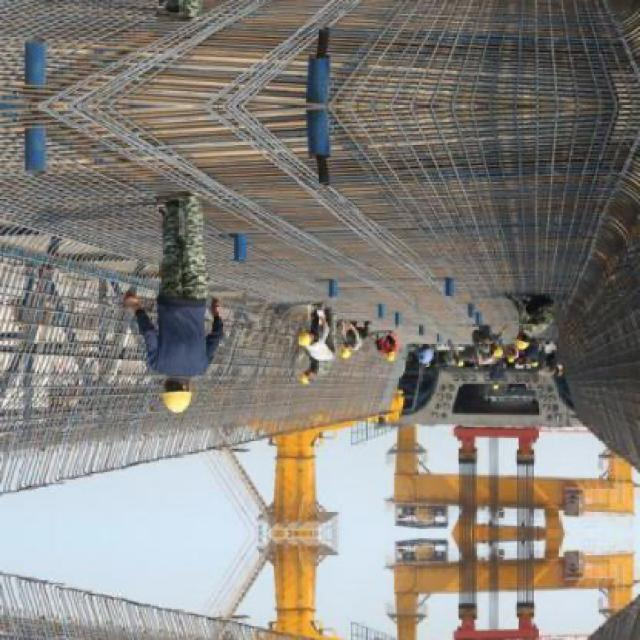con casco: (126, 336, 195, 422), (294, 332, 332, 366), (506, 321, 528, 352)
